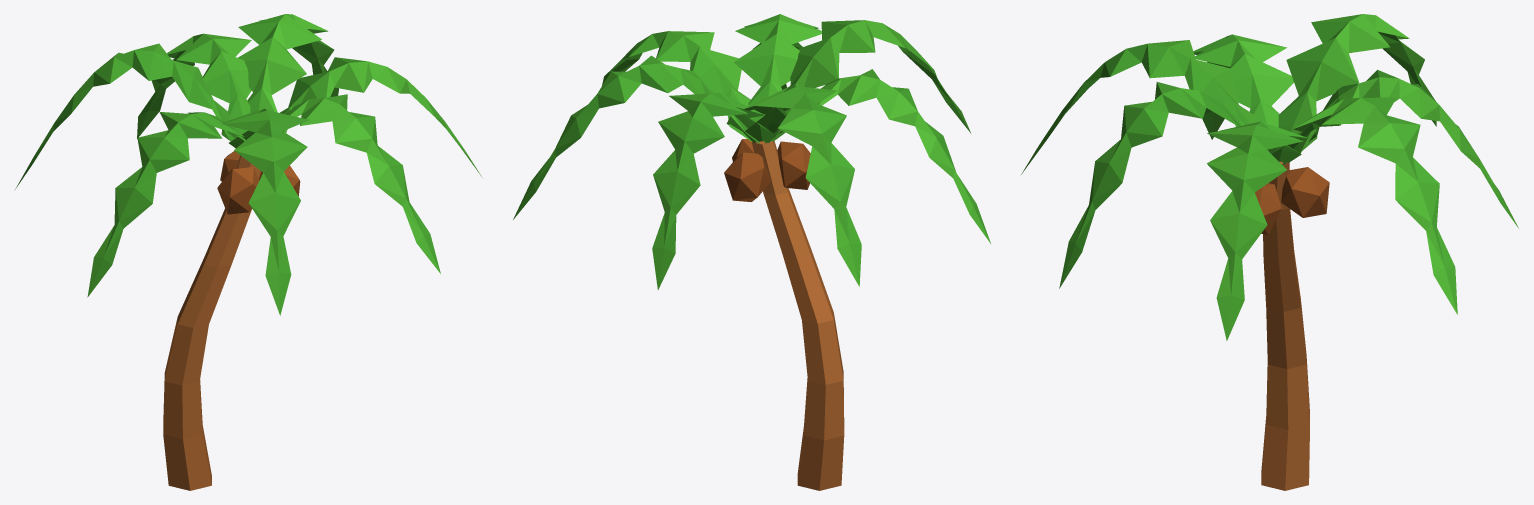
The model's file is tree_palm_a.glb.
3 renders of one model, left to right at view 1: azimuth 30°, elevation 25°; view 2: azimuth 150°, elevation 25°; view 3: azimuth 270°, elevation 25°, orthographic. The views are drawn at different scales.
Parts seen in each view (by area): view 1: tree_palm_a; view 2: tree_palm_a; view 3: tree_palm_a.
Part boxes in pixels (left/top/right/bottom): tree_palm_a: left=14, top=14, right=482, bottom=490; tree_palm_a: left=513, top=14, right=990, bottom=490; tree_palm_a: left=1021, top=14, right=1518, bottom=490.
Size of the model in its own units: 1.85 by 1.8 by 1.8.
